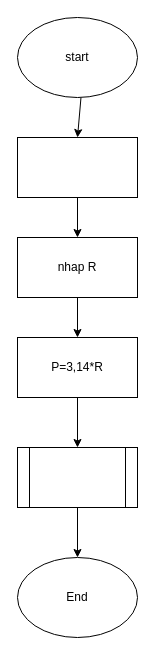
Some shapes in this 155 by 655 pixel diagram are drawn without their labels. The box of each missing label's shape, as (x1, y1, x2, y2) in pixels:
In bien P: (16, 446, 138, 508)
khai bao P,R: (16, 136, 138, 198)
